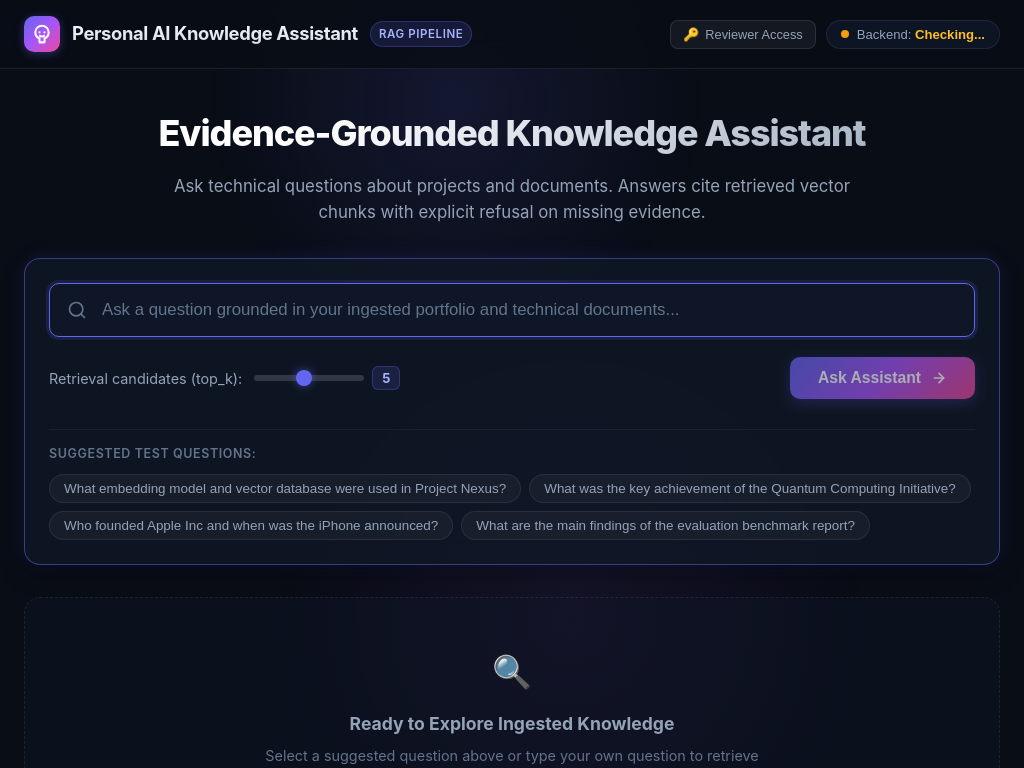
Test: Frontend UI Application (app/page.tsx) › prevents duplicate submissions and displays loading indicator while query is pending
Replace the text in the field with test id "search-input" with "Pending query?" at [512, 310], box [49,283,975,337]
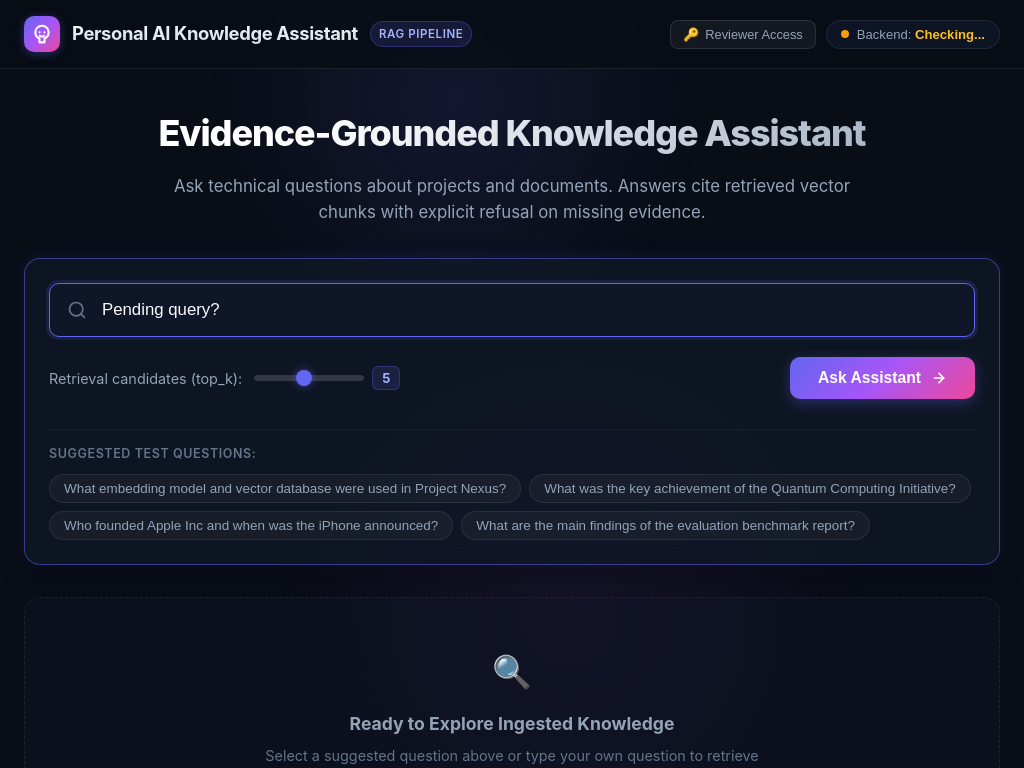
Click the button with test id "submit-btn" at [882, 378], box [790,357,975,399]
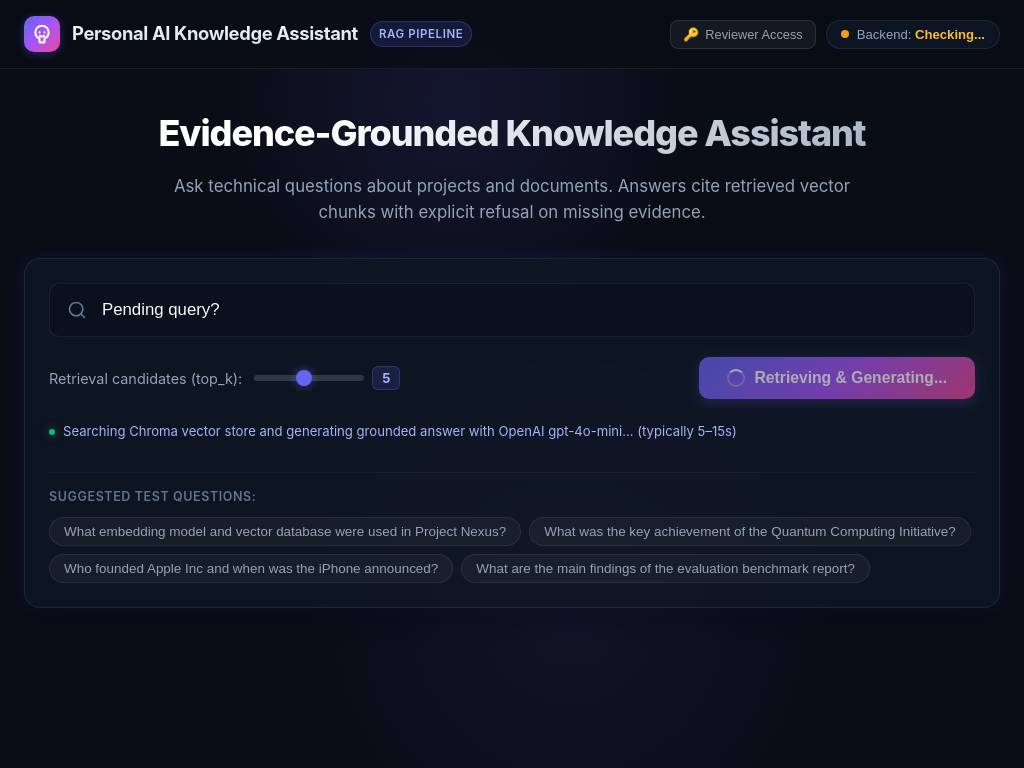
Expected: the element with test id "loading-indicator" is shown, [49,423,737,439]
Expected: the button with test id "submit-btn" is disabled
Note: Secondary click attempt should NOT trigger another call
Click the button with test id "submit-btn" at [837, 378], box [698,357,975,399]
(page scrolled)
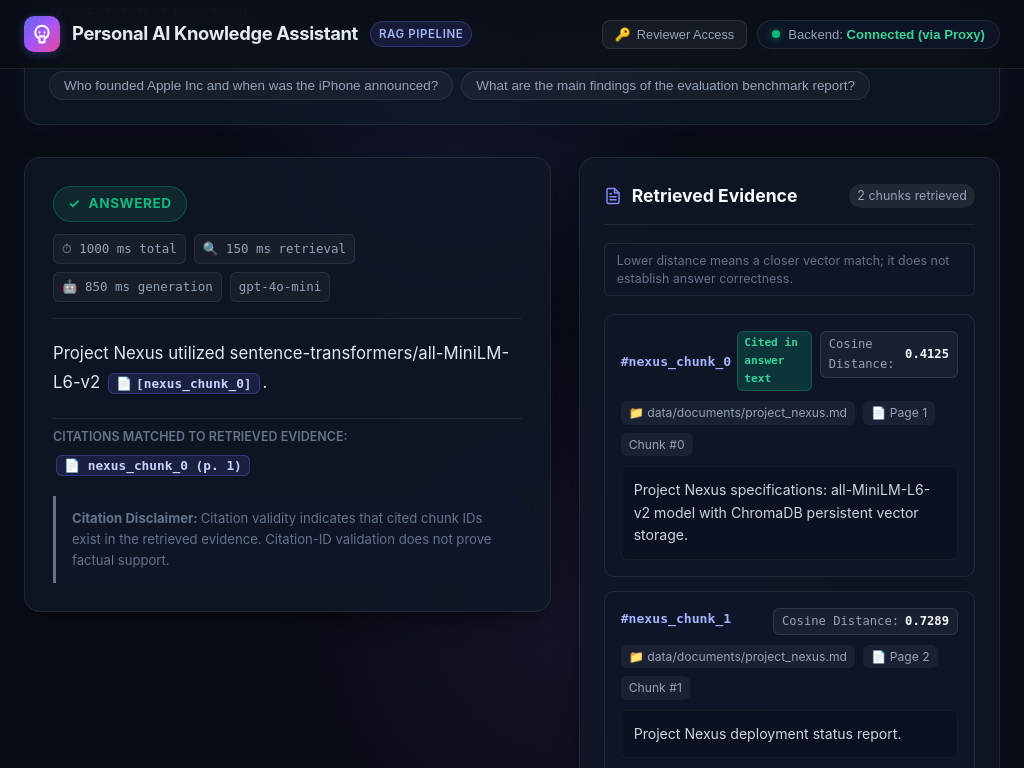
Expected: the element with test id "answer-card" is shown, [24,157,551,612]
